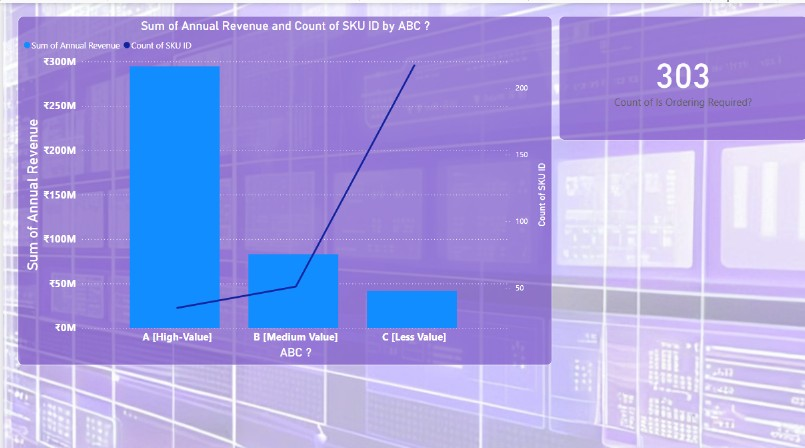

The page's visual inventory and layout, read from the dashboard file:
{"tool":"powerbi","page":{"name":"ABC Analysis","canvas":[1280,720],"ordinal":0},"visuals":[{"type":"lineStackedColumnComboChart","fields":{"Category":["Stock.ABC ?"],"Y":["Sum(Stock.Annual Revenue)"],"Y2":["CountNonNull(Stock.SKU ID)"]},"box":[24.1,20.7,850,555.2],"z":0},{"type":"card","fields":{"Values":["CountNonNull(Stock.Is Ordering Required?)"]},"box":[884.4,20.7,396.1,197.2],"z":1000}]}

Visuals, with their boxes in screenshot pixels (x1, y1, x2, y2), scaled from the page's 1280x720 canvas onto the 805x448 screenshot:
lineStackedColumnComboChart - Stock.ABC ? x Sum(Stock.Annual Revenue): (15, 13, 550, 358)
card - CountNonNull(Stock.Is Ordering Required?): (556, 13, 804, 136)
